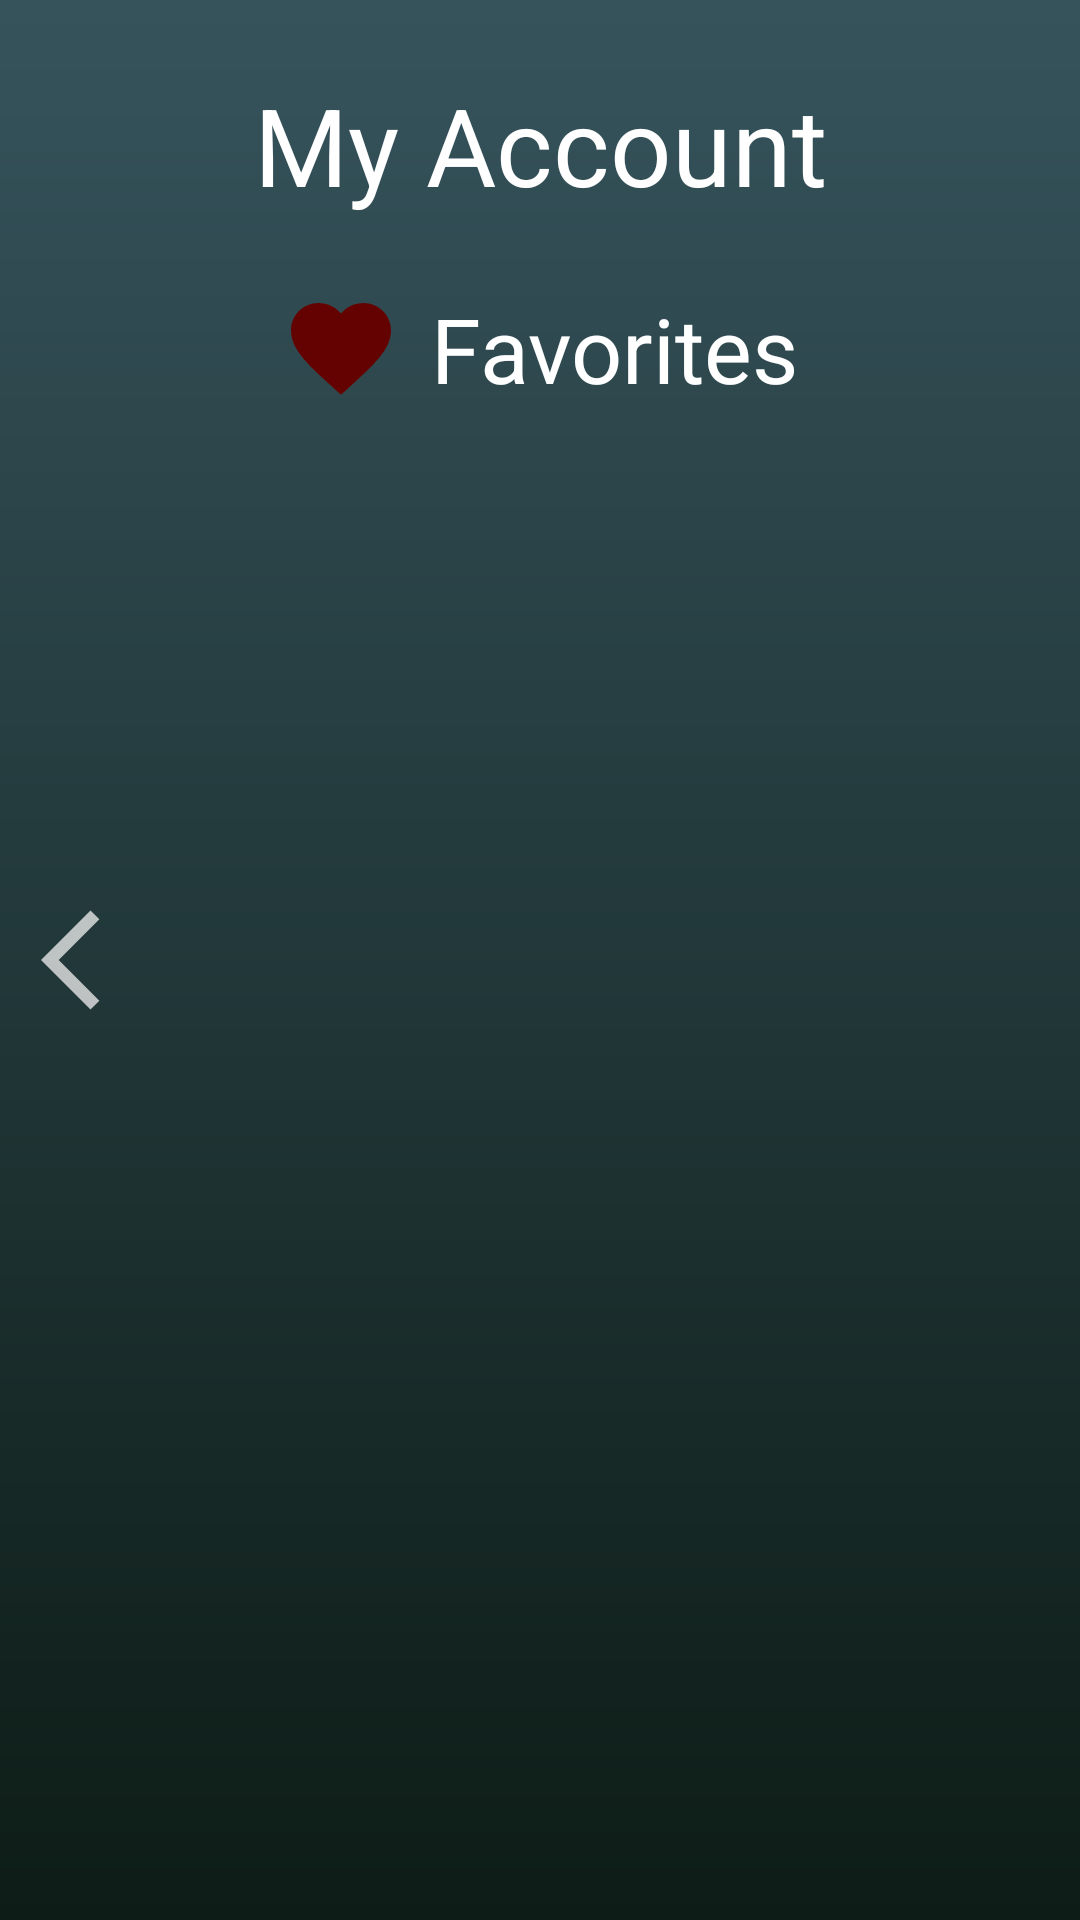

Where to tap for icons on this 1080×1920 app screen, as (x,y):
arrow back: (70,960)
